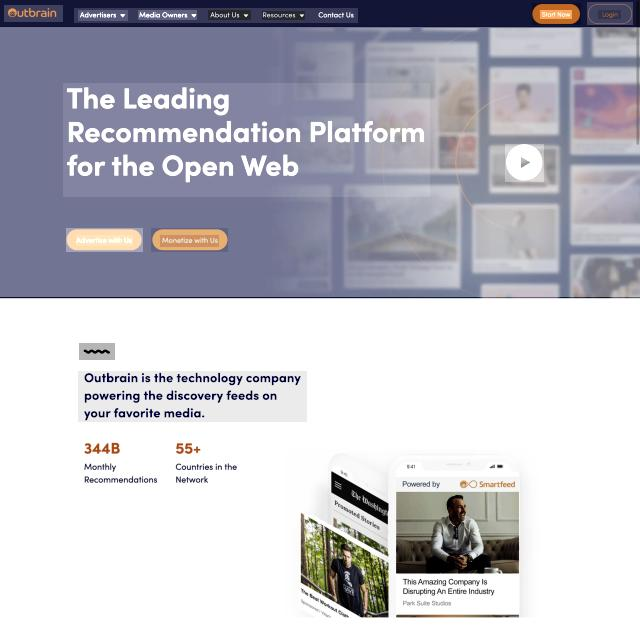CheckBox: (66, 228, 143, 252), (151, 228, 228, 252), (505, 144, 544, 182), (532, 3, 581, 25), (587, 2, 633, 25)
accordion: (79, 343, 115, 360)
alert: (138, 10, 197, 20), (78, 10, 128, 21), (208, 10, 251, 20), (262, 11, 305, 20)
bag: (0, 0, 640, 26)
breadcrumbs: (78, 371, 307, 422)
card: (0, 27, 640, 297)
carousel: (517, 154, 535, 170)
copy: (396, 492, 520, 573)
data feed: (160, 235, 219, 247), (76, 235, 133, 246), (540, 10, 572, 19), (598, 10, 621, 19)
date picker: (4, 5, 63, 22)
decoration: (74, 8, 358, 23)
image: (63, 83, 430, 197)
